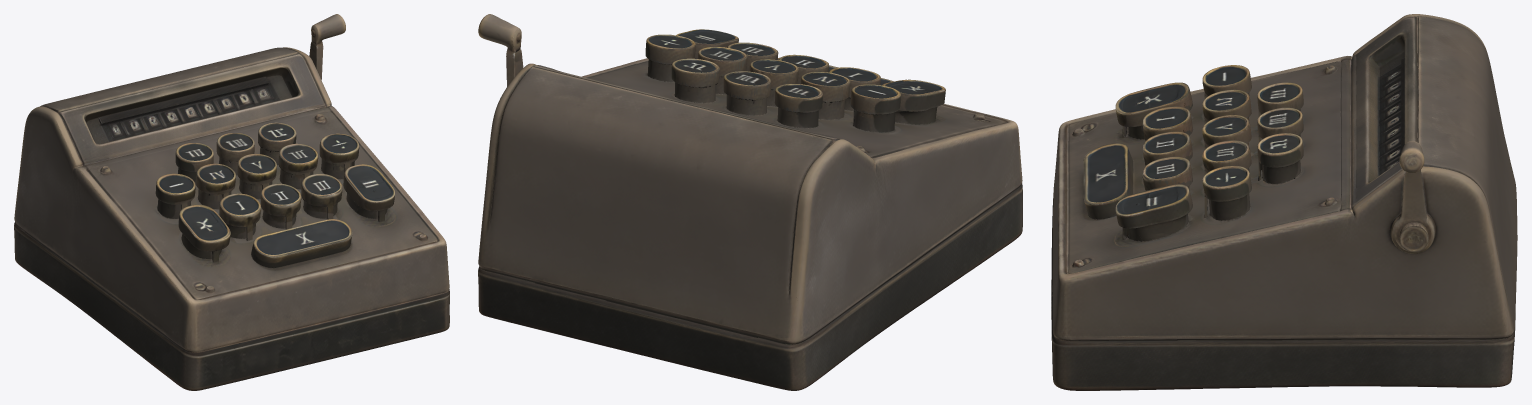
The model's file is Calculadora.glb.
3 renders of one model, left to right at view 1: azimuth 30°, elevation 25°; view 2: azimuth 150°, elevation 25°; view 3: azimuth 270°, elevation 25°, orthographic. The views are drawn at different scales.
Parts seen in each view (by area): view 1: model; view 2: model; view 3: model.
Boxes of the visible parts, bbox=[...] form: model: bbox=[14, 14, 449, 390]; model: bbox=[478, 14, 1022, 390]; model: bbox=[1051, 14, 1517, 390].
Bounding box in the file's own units: 1.77 × 1.18 × 1.91.
Materials: 1 (1 with a texture image).
